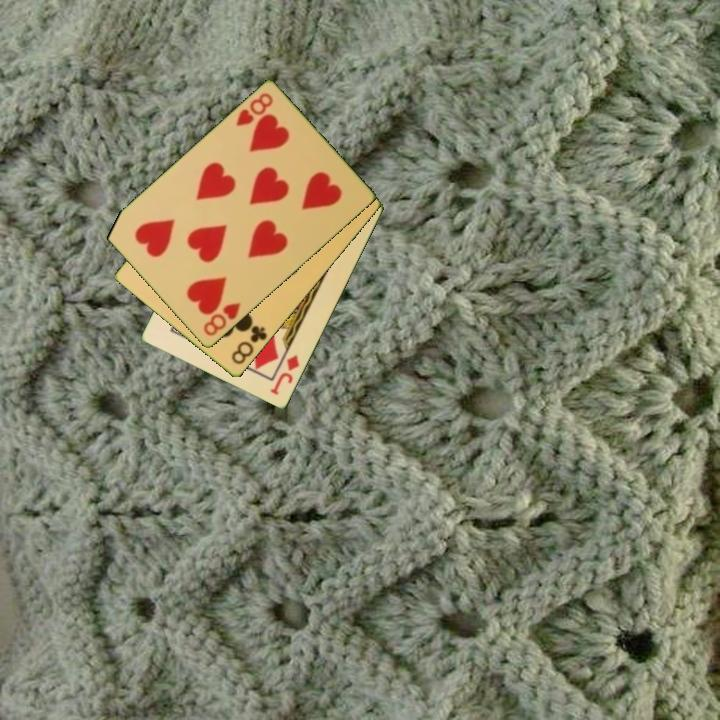8c: (228, 322, 270, 368)
8h: (200, 299, 243, 339), (233, 89, 276, 129)
Jd: (267, 352, 302, 398)
